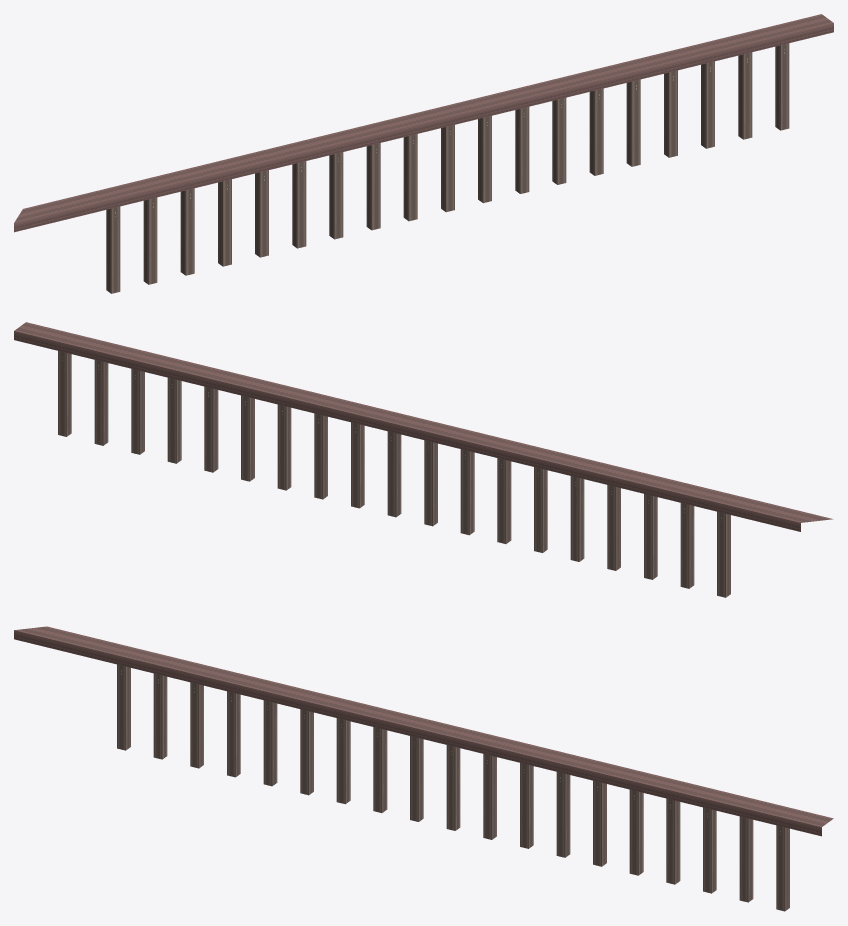
The model's file is kd_stage_135b75_2_3.glb.
The picture shows the model from 3 angles, top to bottom: view 1: azimuth 30°, elevation 25°; view 2: azimuth 150°, elevation 25°; view 3: azimuth 330°, elevation 25°; orthographic projection.
Parts seen in each view (by area): view 1: kd_stage_135b75_2_3; view 2: kd_stage_135b75_2_3; view 3: kd_stage_135b75_2_3.
Boxes of the visible parts, x1,y1,x2,y2 form: kd_stage_135b75_2_3: [14, 14, 833, 293]; kd_stage_135b75_2_3: [14, 322, 833, 597]; kd_stage_135b75_2_3: [14, 626, 833, 911].
Size of the model in its own units: 9.24 by 1.06 by 0.24.
Materials: 1 (1 with a texture image).
